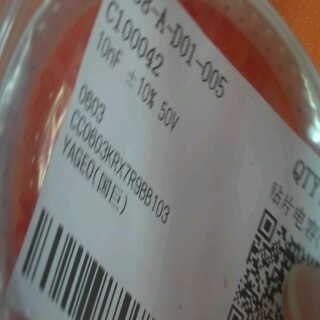10nF: (89, 28, 123, 70)
